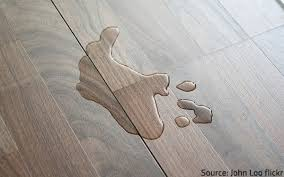Wet-floor: (76, 22, 219, 142)
